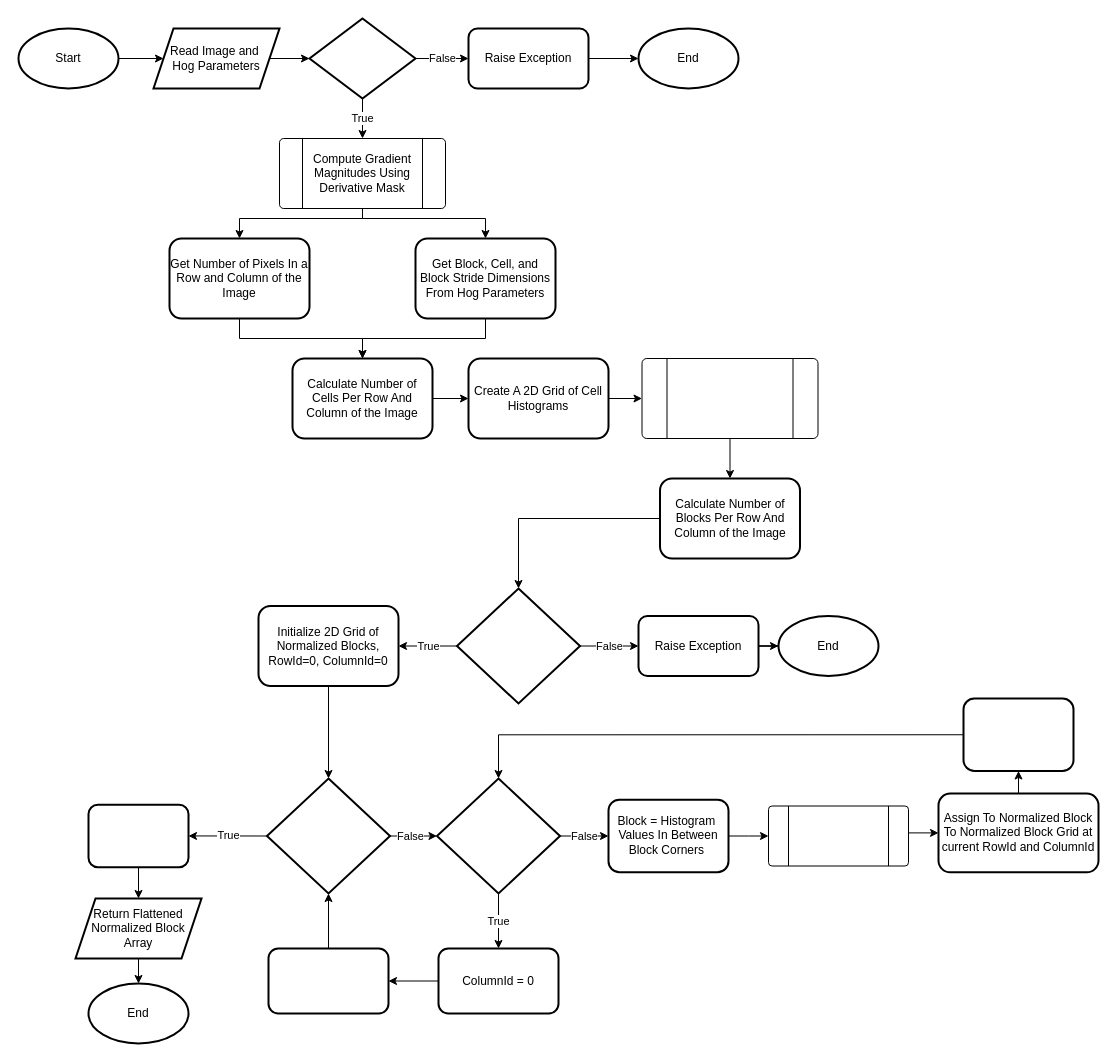
Image size: 1116x1061. Some labels were removed from this diagram. The box of each missing label's shape, as (x1, y1, x2, y2) in pixels:
Distribute Gradient Magnitudes (Votes) To Each Respective Histogram in the Grid: (641, 358, 818, 438)
Flatten Normalized Block Grid: (87, 803, 189, 868)
Increment ColumnId: (962, 697, 1074, 772)
Increment RowId: (267, 947, 389, 1014)
Is ColumnId >= Blocks Per Column?: (436, 777, 560, 894)
Is Image a 2D array?: (308, 17, 416, 99)
Is Number of Blocks Per Row and Column > 0: (456, 587, 580, 704)
Is RowId >= Blocks Per Row?: (266, 777, 390, 894)
Normalize Block Using L2-Hys Schema: (768, 805, 908, 866)
